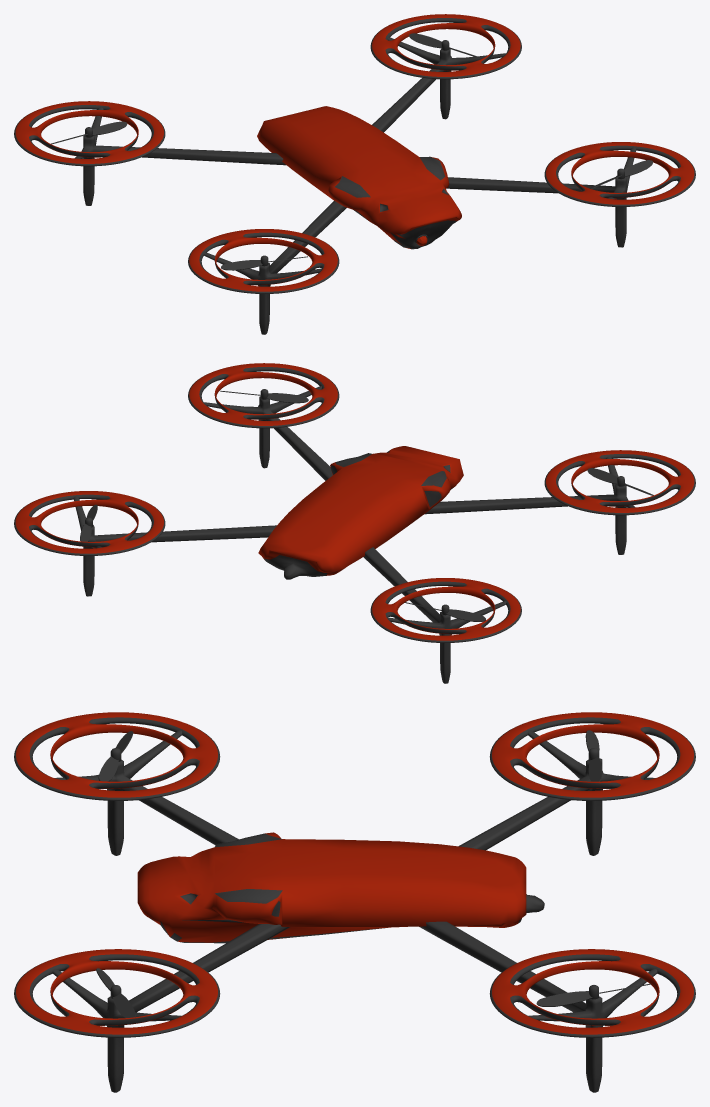
File: EnemyDrone.fbx
3 views of the same model, one above another, from view 1: azimuth 30°, elevation 25°; view 2: azimuth 150°, elevation 25°; view 3: azimuth 270°, elevation 25° (orthographic). The views are drawn at different scales.
Parts seen in each view (by area): view 1: stand; view 2: stand; view 3: stand.
Boxes of the visible parts, box(x1,y1,x2,y2) form: stand: box(14, 14, 695, 334); stand: box(14, 363, 695, 683); stand: box(14, 712, 695, 1092).
Size of the model in its own units: 422 by 68.28 by 375.
